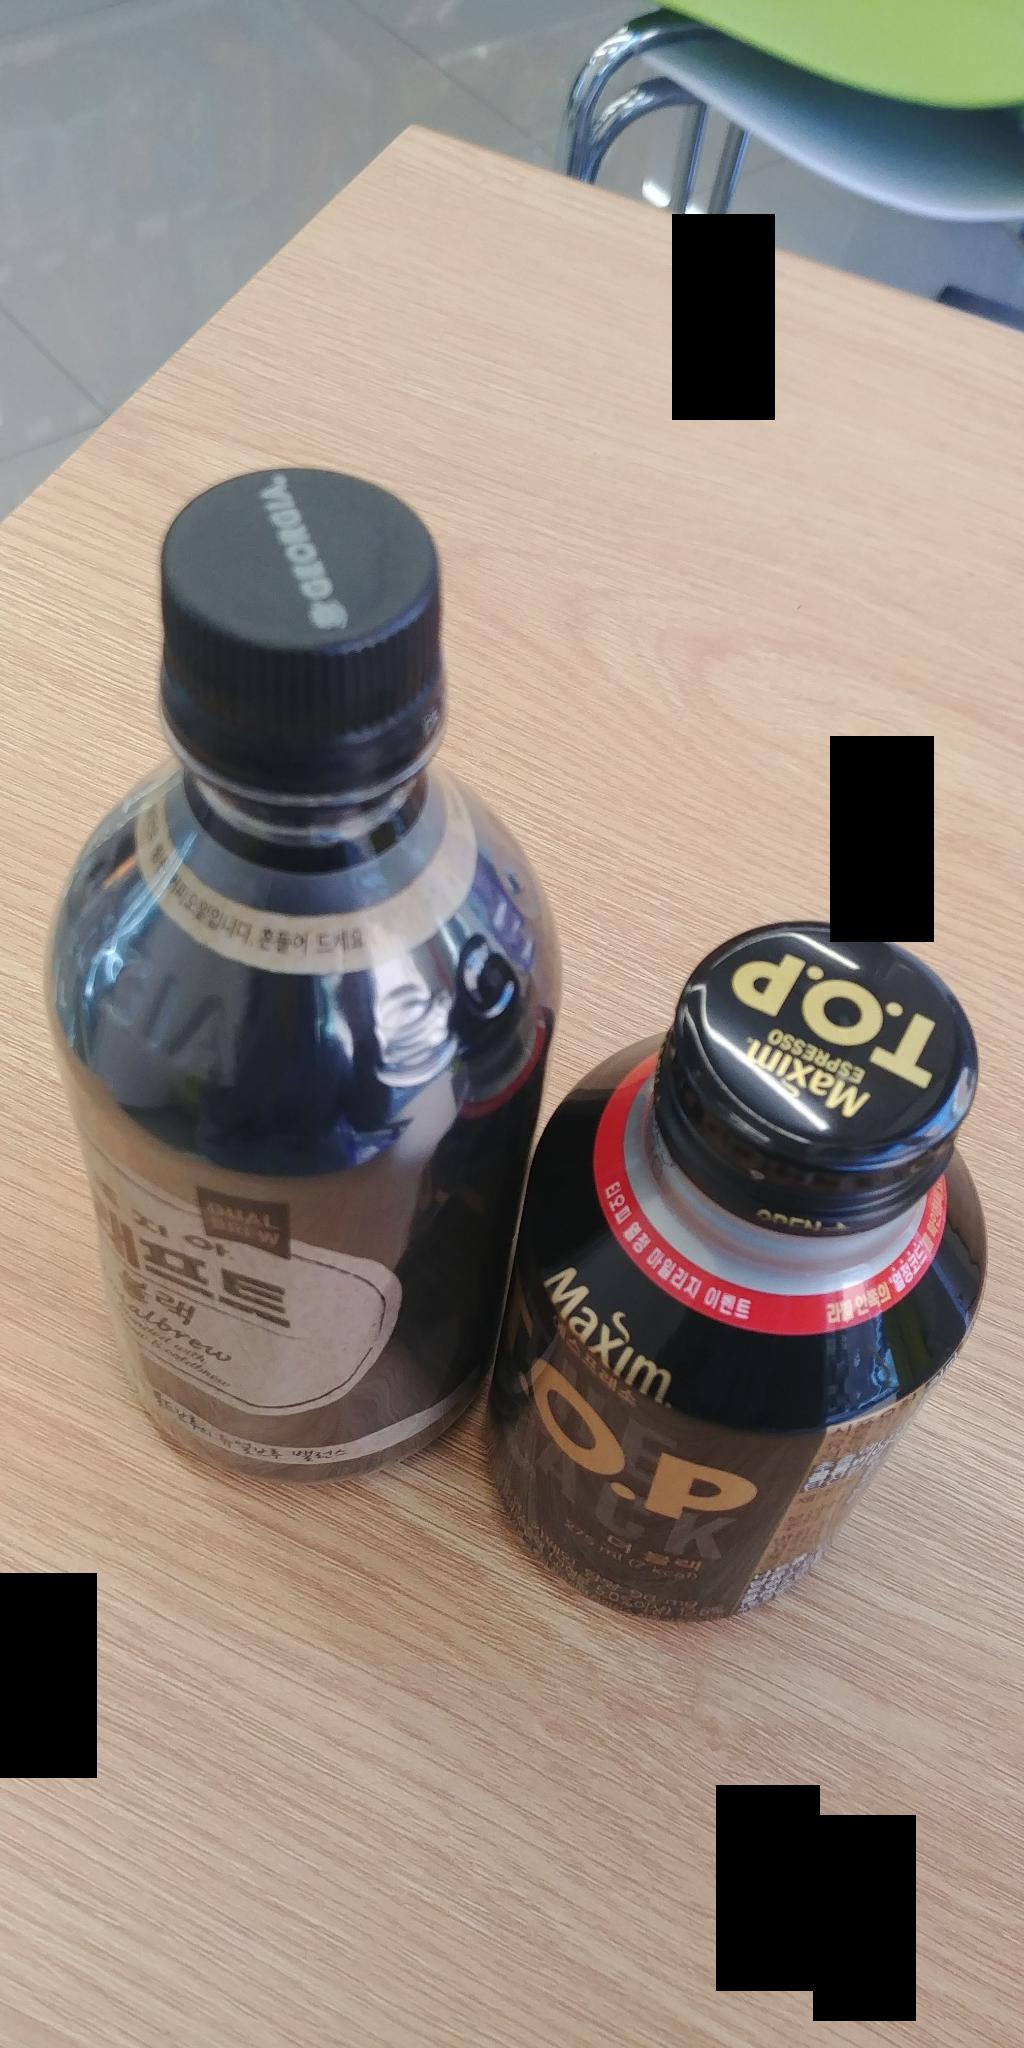TOP_black: (538, 876, 1002, 1622)
georgiacraft_black: (46, 414, 528, 1494)
